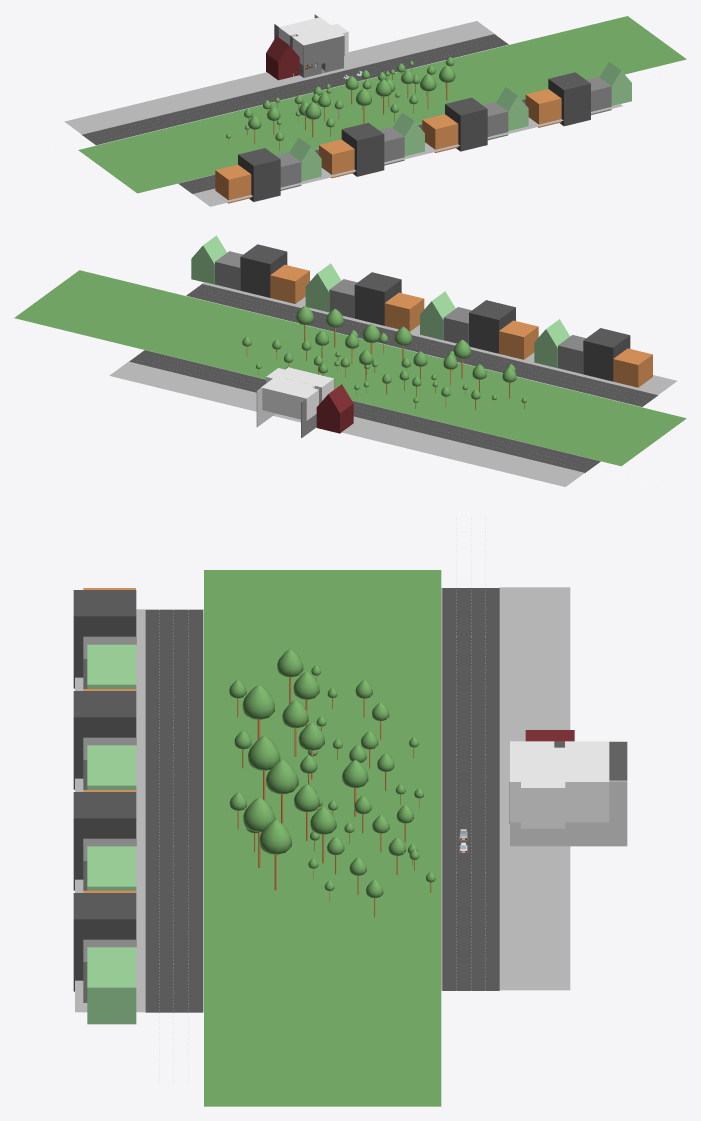
The model's file is dan_and_Rennies.fbx.
3 renders of one model, top to bottom at view 1: azimuth 30°, elevation 25°; view 2: azimuth 150°, elevation 25°; view 3: azimuth 270°, elevation 25°, orthographic. The views are drawn at different scales.
Parts seen in each view (by area): view 1: grass, buildings, street, street.001, ceiling, building, next door; view 2: grass, buildings, street, street.001, ceiling, next door, building; view 3: grass, street, street.001, buildings, ceiling, internal walls, tree.023, tree.007, tree.045, tree.034, building, tree.015.
Part boxes in pixels (box(x1,y1,x2,y2)): grass: box(78, 16, 686, 193); buildings: box(215, 62, 631, 203); street: box(64, 21, 508, 145); street.001: box(178, 98, 622, 206); ceiling: box(278, 17, 348, 64); building: box(274, 24, 344, 77); next door: box(266, 36, 299, 80); grass: box(14, 270, 686, 466); buildings: box(191, 235, 652, 387); street: box(109, 350, 600, 486); street.001: box(186, 282, 676, 406); ceiling: box(261, 367, 333, 420); next door: box(316, 384, 353, 433); building: box(301, 379, 334, 437); grass: box(204, 570, 441, 1106); street: box(441, 587, 570, 990); street.001: box(75, 609, 203, 1012); buildings: box(73, 588, 136, 1024); ceiling: box(509, 741, 609, 828); internal walls: box(510, 780, 627, 846); tree.023: box(259, 820, 291, 890); tree.007: box(266, 759, 298, 824); tree.045: box(242, 685, 274, 739); tree.034: box(248, 736, 280, 800); building: box(509, 741, 627, 823); tree.015: box(243, 797, 275, 867).
Size of the model in its own units: 29270 by 1856 by 11647.
